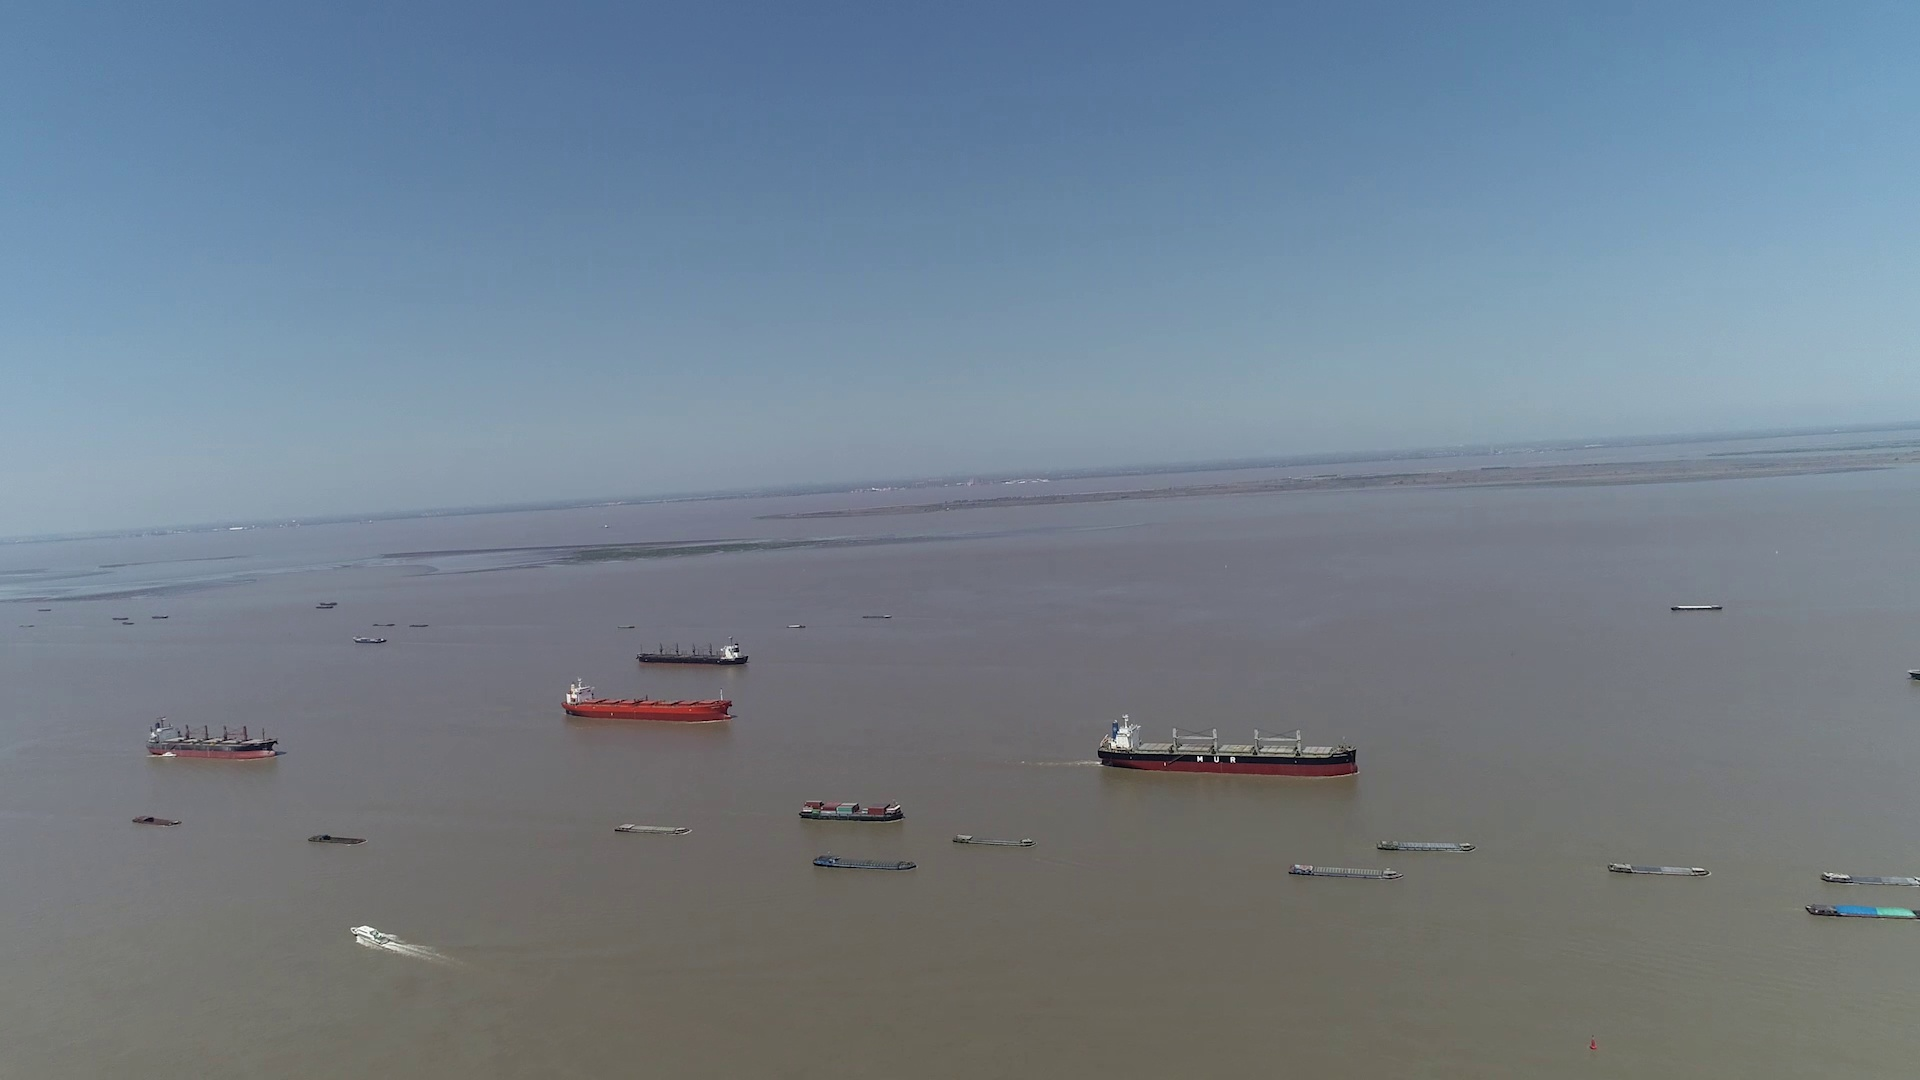ship: (1095, 713, 1358, 779), (560, 679, 727, 721), (148, 715, 278, 760), (636, 640, 748, 665), (796, 798, 905, 822), (1813, 901, 1917, 920), (1287, 862, 1402, 880), (814, 853, 913, 872), (1820, 869, 1913, 887), (1607, 860, 1708, 877), (349, 924, 406, 949), (1377, 837, 1473, 852), (952, 832, 1036, 848), (615, 823, 688, 835), (309, 833, 368, 847), (132, 814, 179, 825), (353, 634, 390, 644), (1672, 604, 1721, 611)
